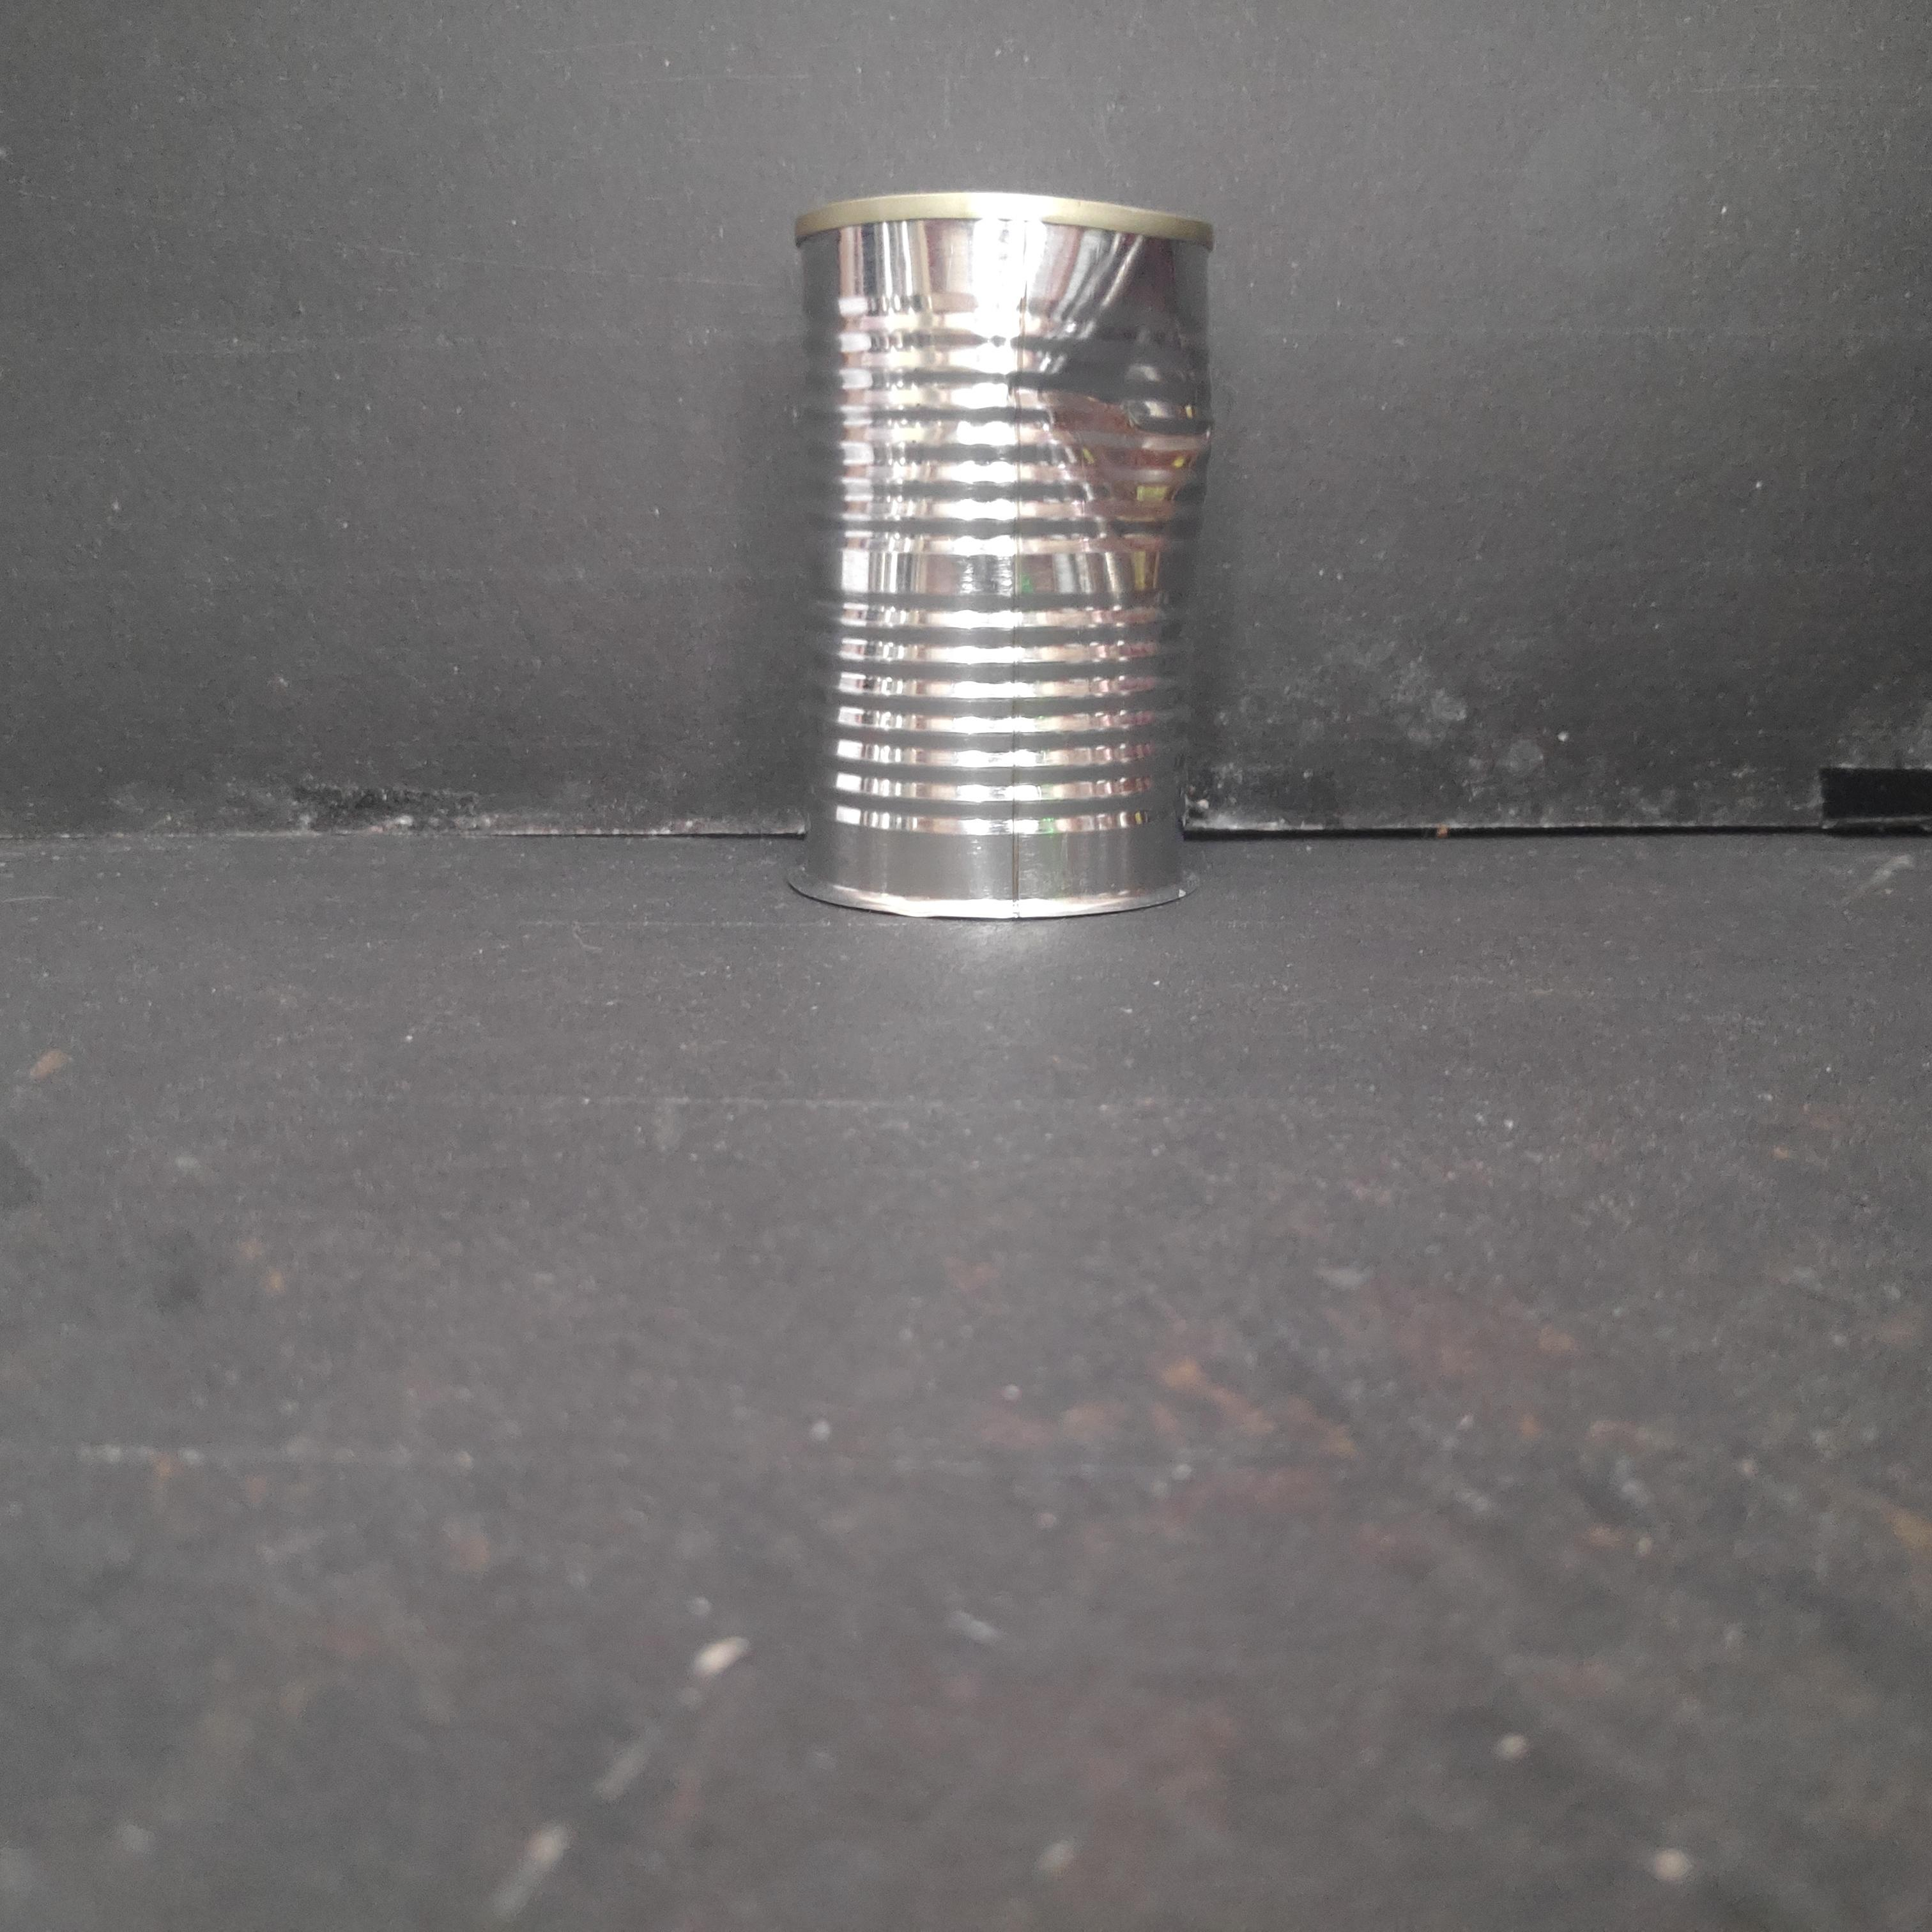Minor Defect: (781, 170, 1225, 934)
